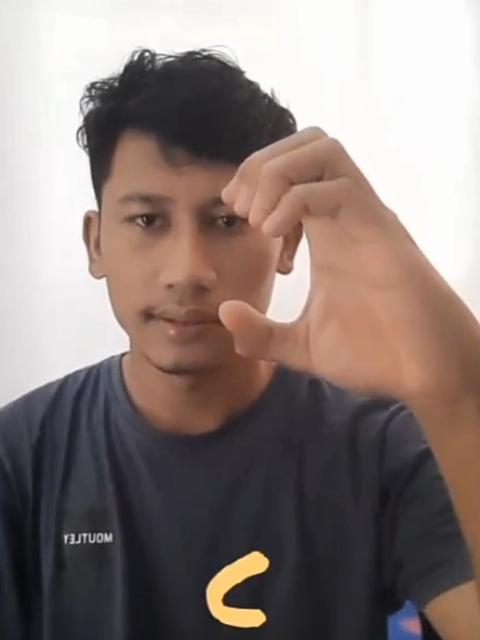C: (212, 126, 480, 396)
